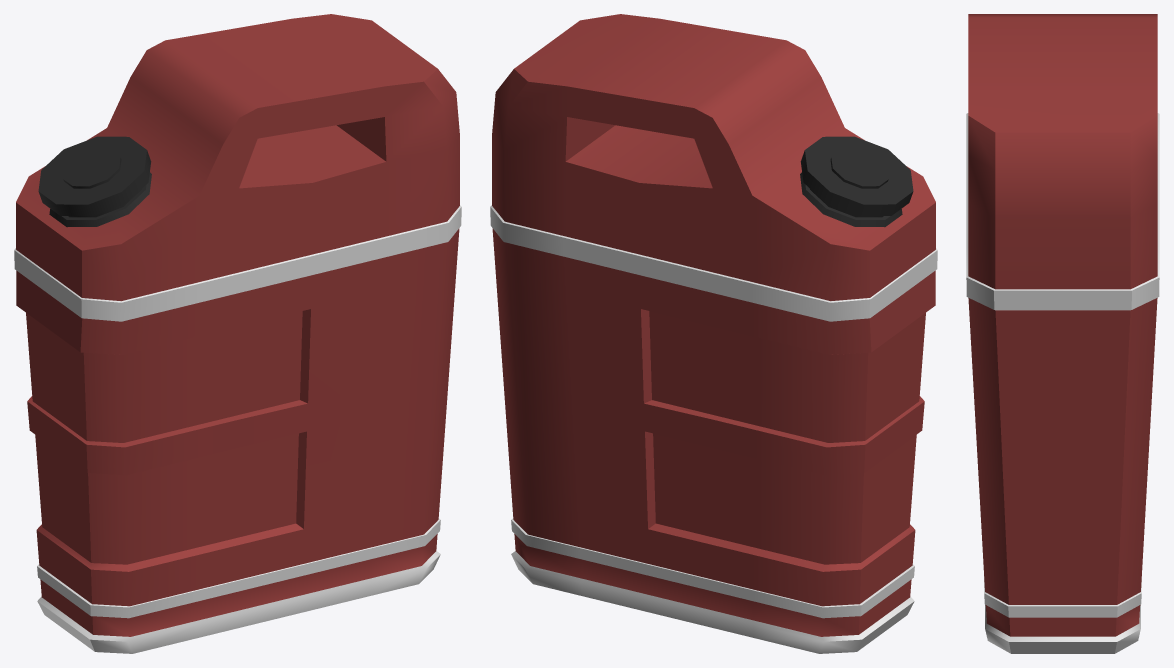
Rendered from SM_GasCan.fbx.
The picture shows the model from 3 angles, left to right: view 1: azimuth 30°, elevation 25°; view 2: azimuth 150°, elevation 25°; view 3: azimuth 270°, elevation 25°; orthographic projection. The views are drawn at different scales.
Parts seen in each view (by area): view 1: SM_GasCan; view 2: SM_GasCan; view 3: SM_GasCan.
Part boxes in pixels (x1=…): SM_GasCan: x1=14, y1=14, x2=461, y2=653; SM_GasCan: x1=490, y1=14, x2=937, y2=653; SM_GasCan: x1=966, y1=14, x2=1159, y2=653.
Size of the model in its own units: 0.7966 by 1.05 by 0.3414.
